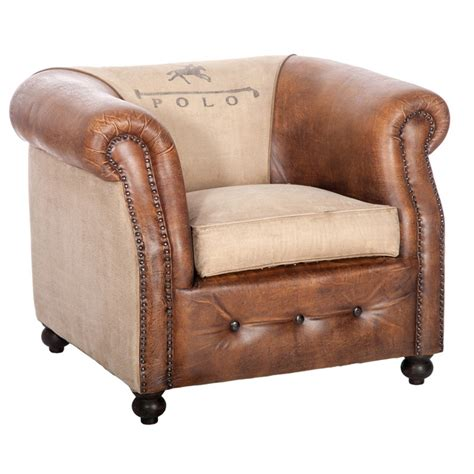cuero: (10, 53, 451, 396)
